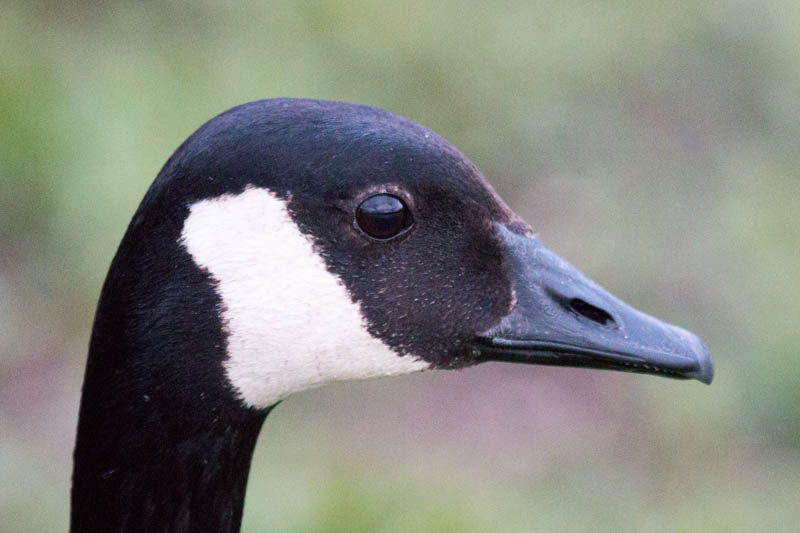goose-head: (92, 97, 714, 410)
